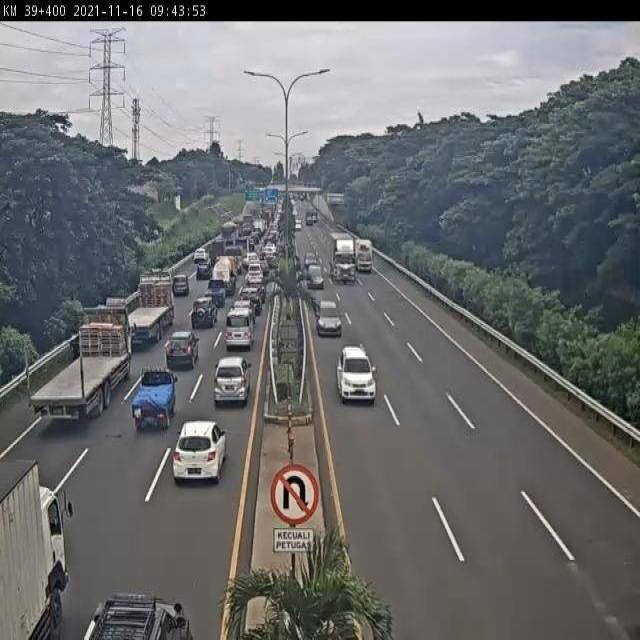Car: (80, 592, 198, 639), (171, 418, 230, 486), (130, 367, 178, 430), (336, 344, 376, 405), (212, 356, 252, 407), (224, 297, 259, 349), (164, 330, 200, 370), (316, 300, 342, 338), (190, 296, 218, 329), (205, 281, 227, 309), (305, 264, 325, 290), (172, 273, 190, 296), (246, 262, 262, 283)
Truck: (0, 460, 68, 640), (30, 307, 134, 421), (118, 276, 172, 346), (326, 232, 356, 284), (212, 254, 239, 292), (355, 236, 373, 276)
